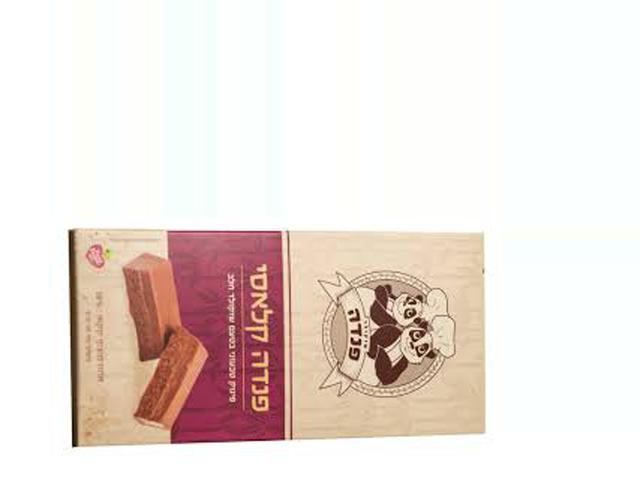chocolate: (67, 234, 486, 452)
